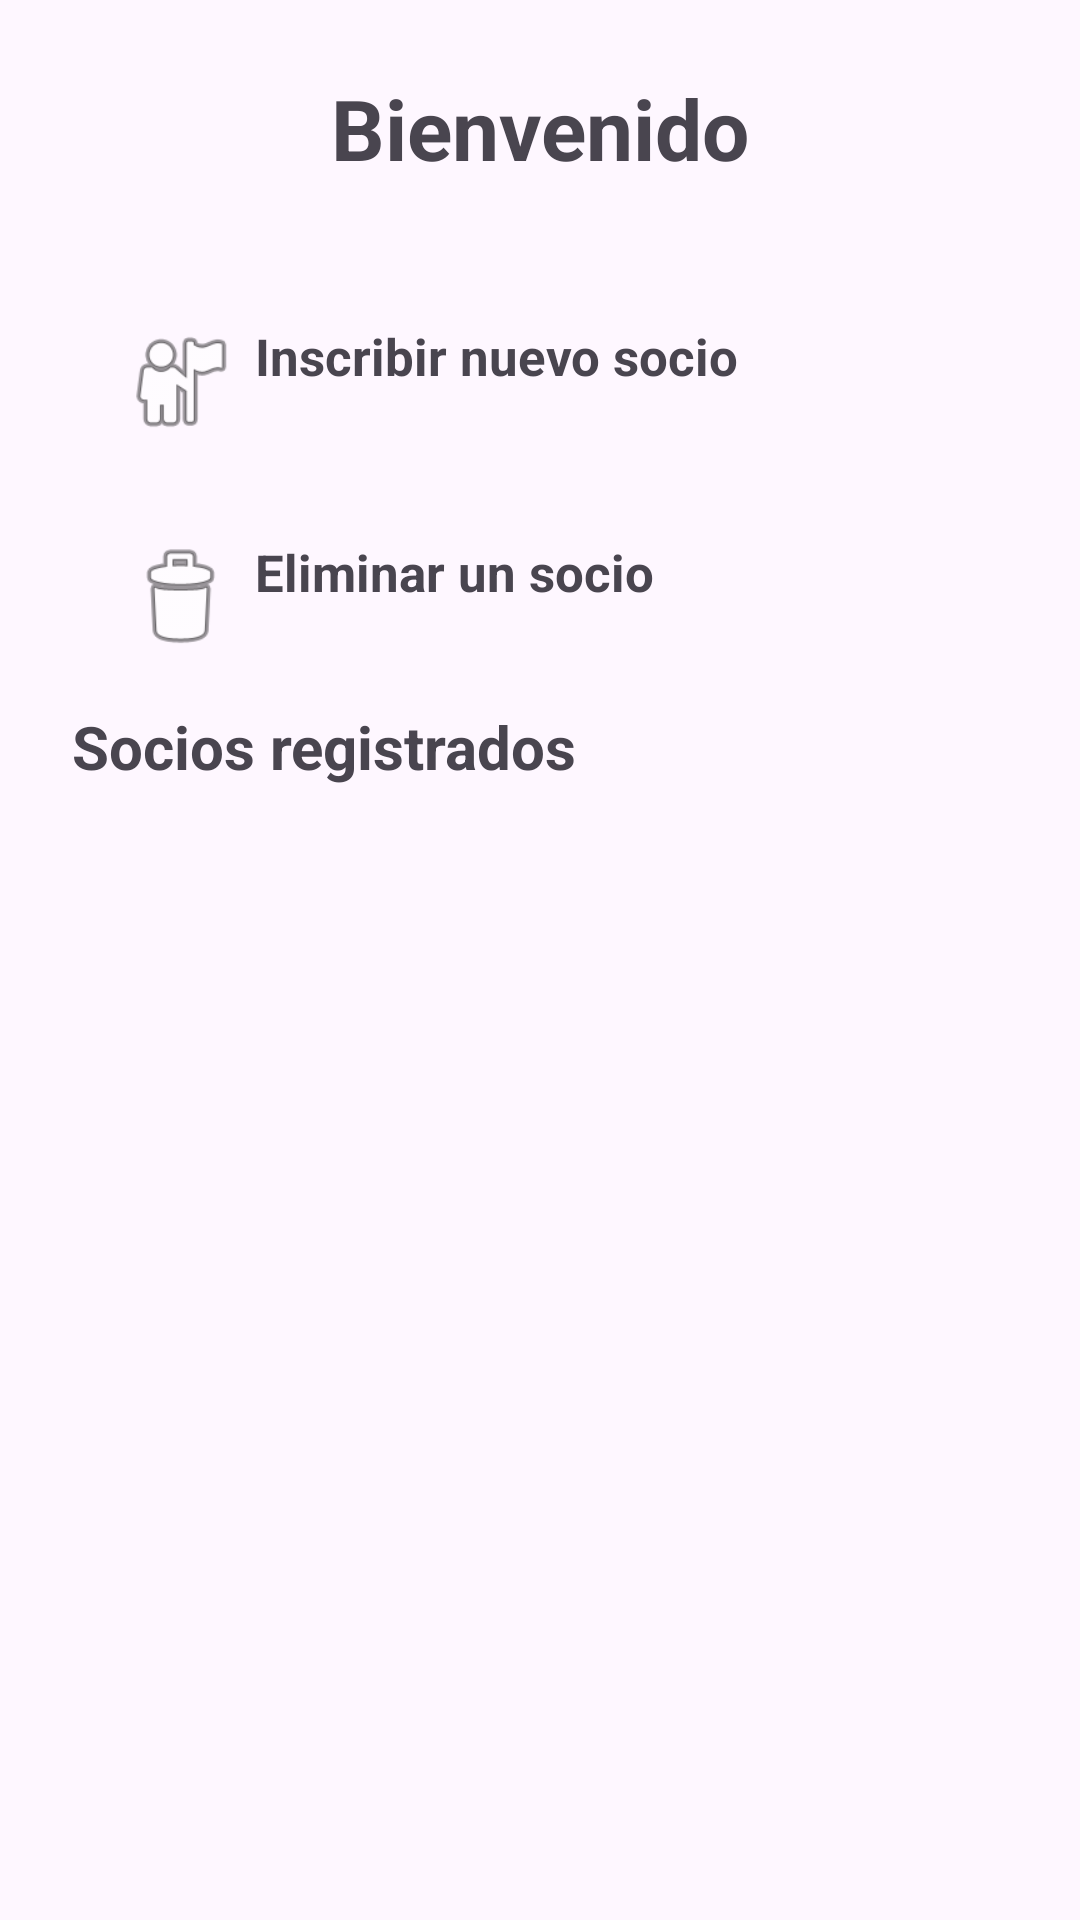

Where to tap for icons on this 1080 × 1920 app screen, as [x,y]:
delete: [181,596]
